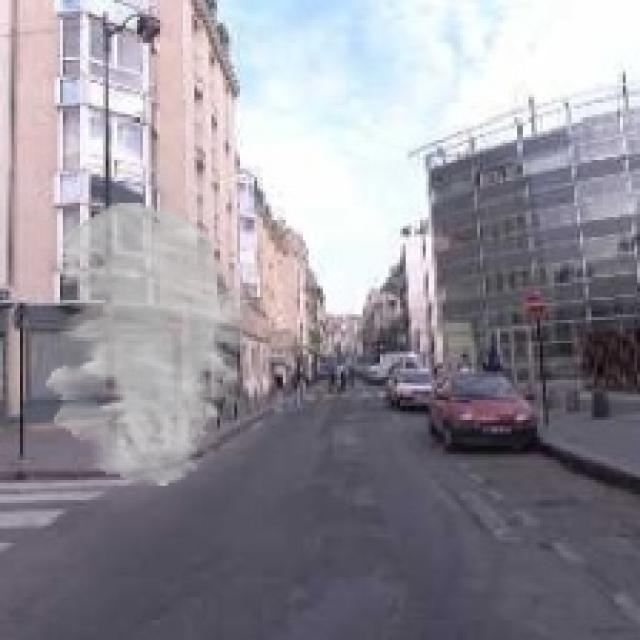Smoke: (45, 203, 252, 486)
